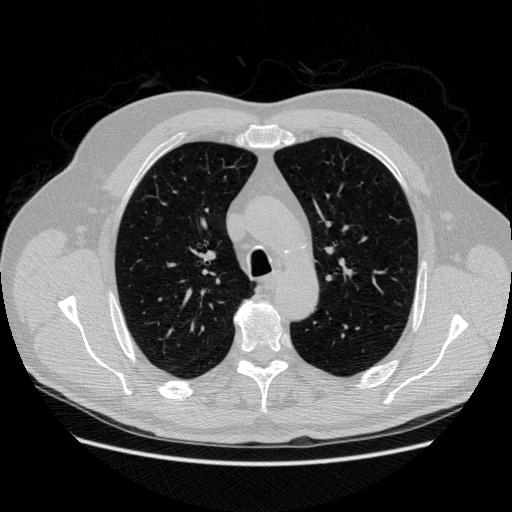nodule: (153, 214, 165, 226)
